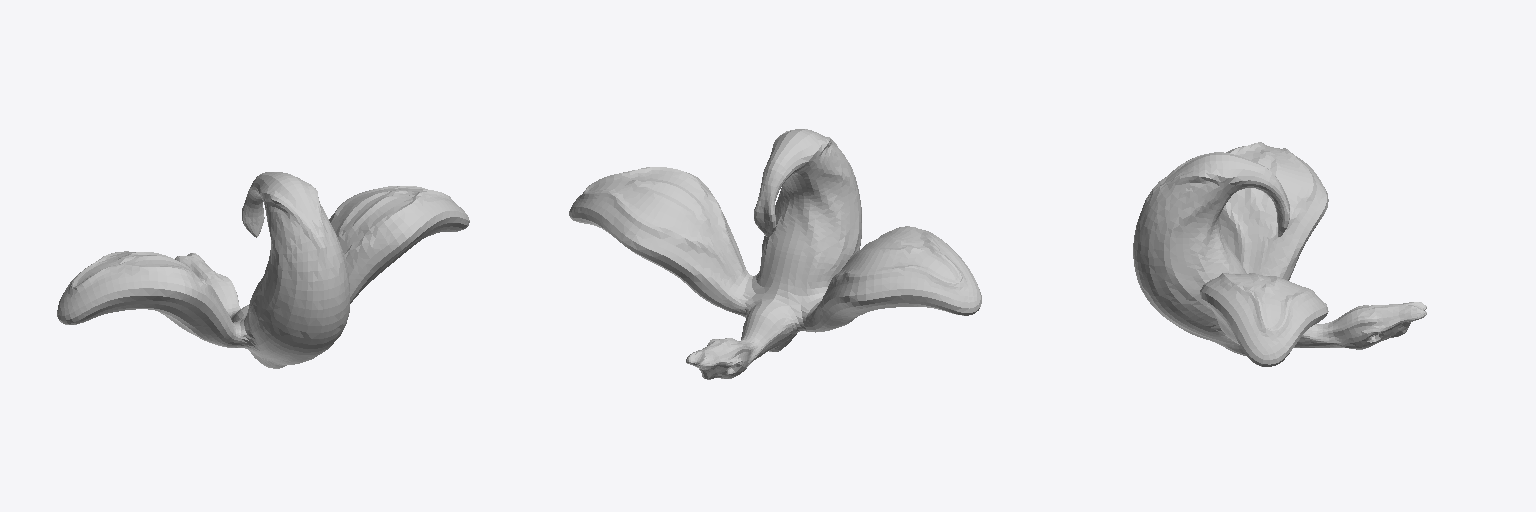
File: plastic bird fossil2-1.obj
3 renders of one model, left to right at view 1: azimuth 30°, elevation 25°; view 2: azimuth 150°, elevation 25°; view 3: azimuth 270°, elevation 25°, orthographic.
Size of the model in its own units: 52.95 by 25.25 by 33.14.